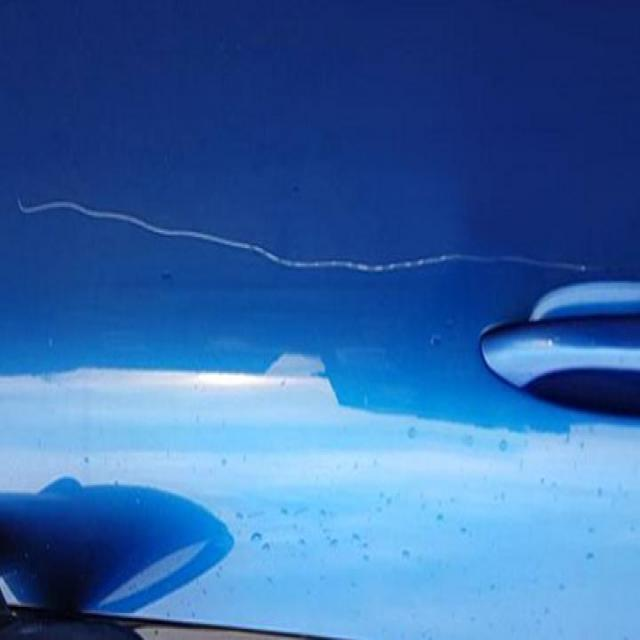scratch: (13, 188, 609, 288)
